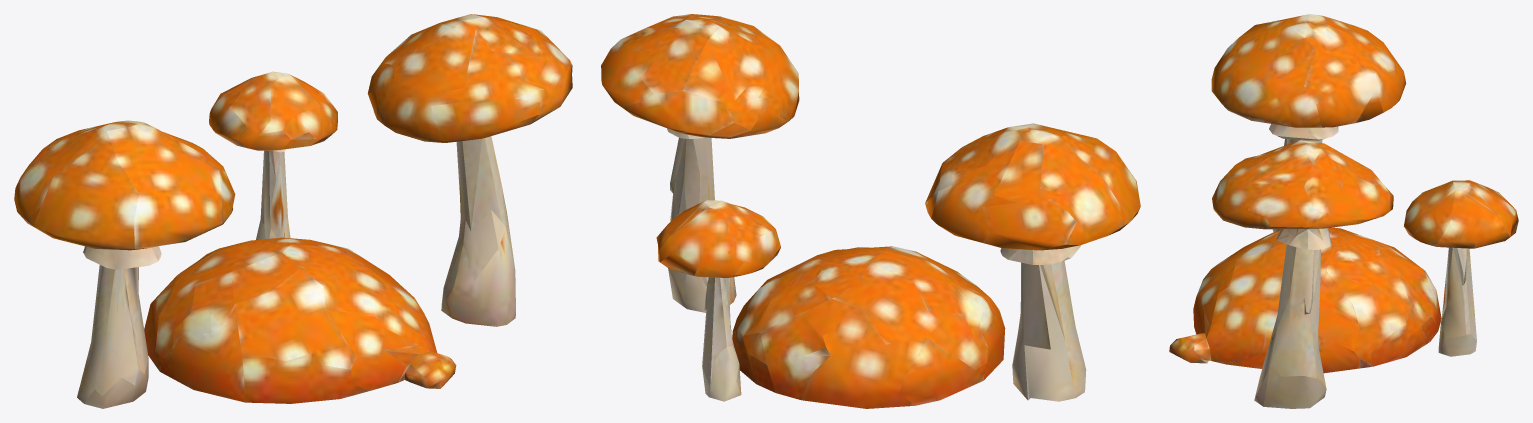
File: Mushrooms.lod1.glb
3 renders of one model, left to right at view 1: azimuth 30°, elevation 25°; view 2: azimuth 150°, elevation 25°; view 3: azimuth 270°, elevation 25°, orthographic. The views are drawn at different scales.
Size of the model in its own units: 0.8625 by 0.45 by 0.5647.
Materials: 1 (1 with a texture image).
